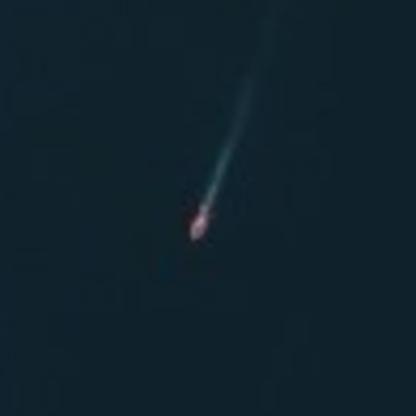ship: (180, 208, 218, 245)
